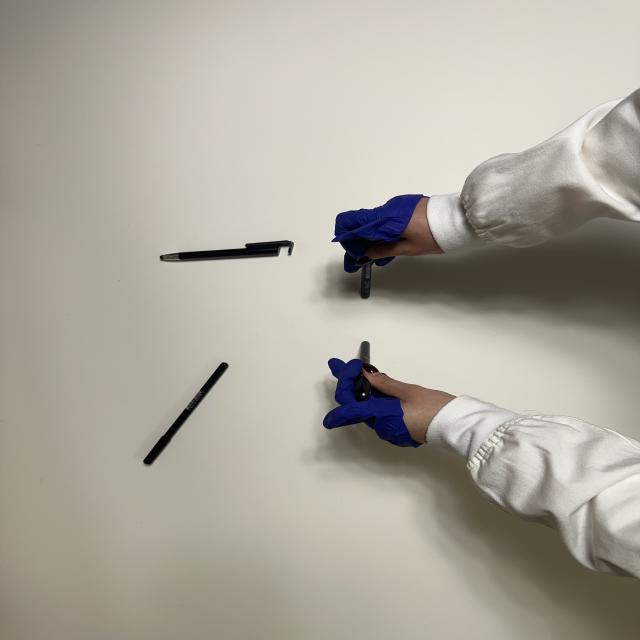glove_partial: (322, 356, 472, 449), (329, 193, 448, 274)
